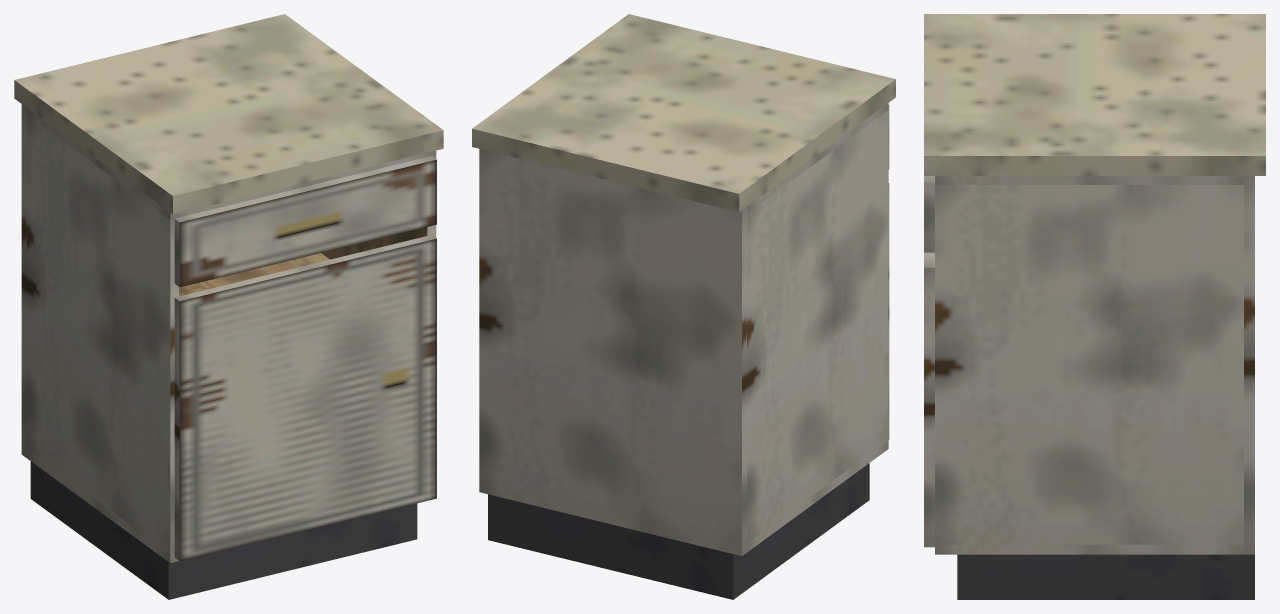
File: base_unit_white.obj
The picture shows the model from 3 angles, left to right: view 1: azimuth 30°, elevation 25°; view 2: azimuth 150°, elevation 25°; view 3: azimuth 270°, elevation 25°; orthographic projection. The views are drawn at different scales.
Visible parts, largest first — view 1: base_unit_white, base_unit_white_door; view 2: base_unit_white; view 3: base_unit_white, base_unit_white_door.
Boxes of the visible parts, <box> form: base_unit_white: <box>14,14,443,599</box>; base_unit_white_door: <box>174,235,436,560</box>; base_unit_white: <box>472,14,895,599</box>; base_unit_white: <box>924,14,1265,599</box>; base_unit_white_door: <box>924,252,934,547</box>.
Bounding box in the file's own units: 0.61 × 0.9 × 0.62.
1 material, 1 textured.
